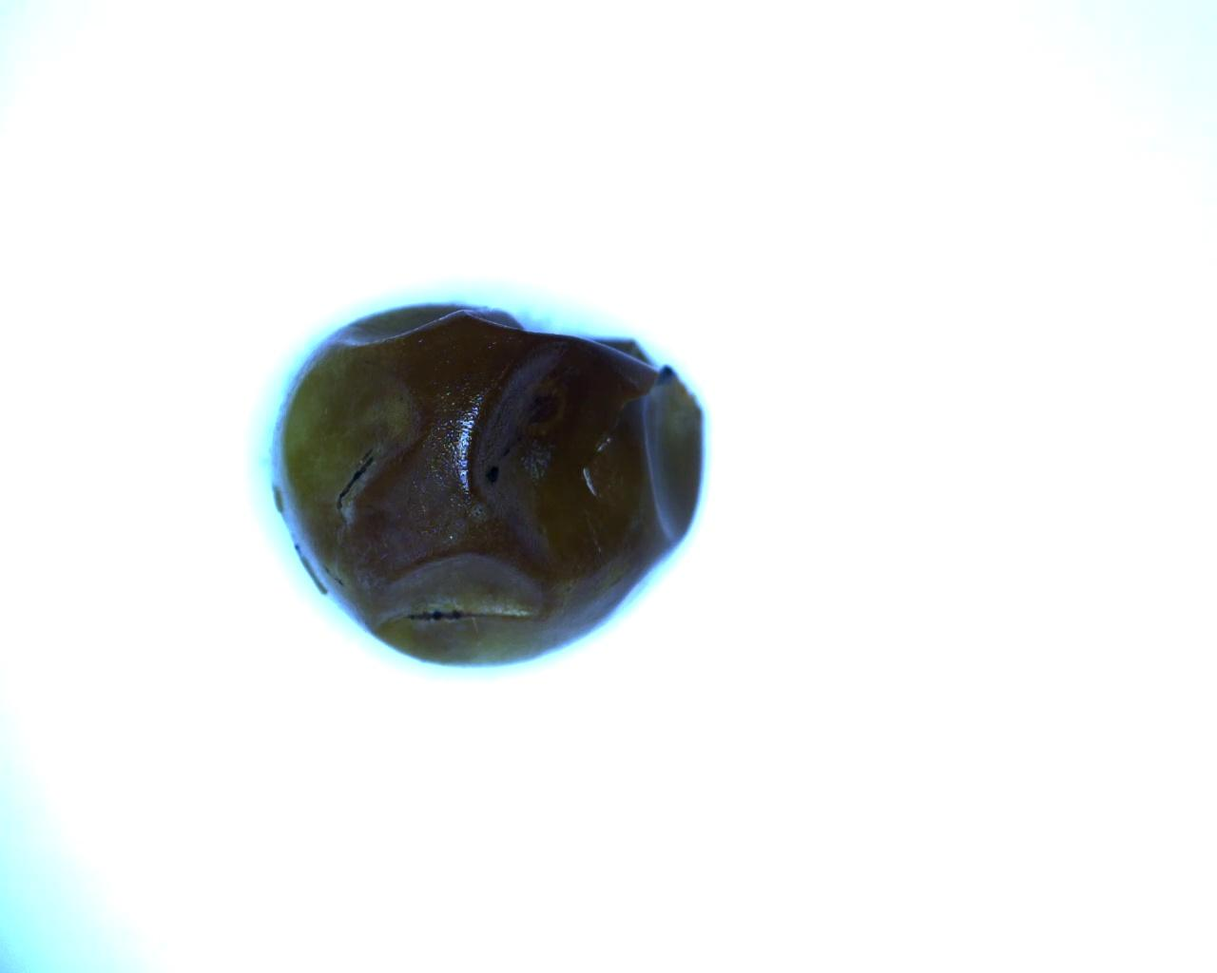Grape Rotten: (268, 299, 706, 668)
